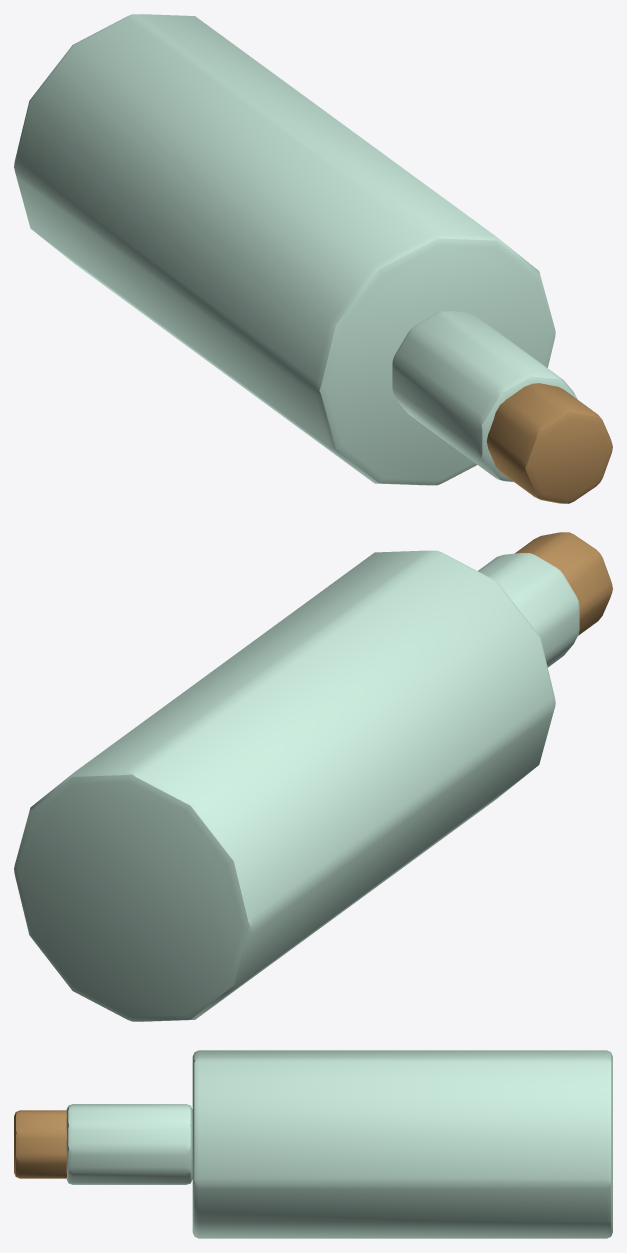
The model's file is RailHarbour.fbx.
3 views of the same model, one above another, from view 1: azimuth 30°, elevation 25°; view 2: azimuth 150°, elevation 25°; view 3: azimuth 270°, elevation 25° (orthographic). The views are drawn at different scales.
Parts seen in each view (by area): view 1: RailHarbour; view 2: RailHarbour; view 3: RailHarbour.
Part boxes in pixels (bbox=[...]): RailHarbour: bbox=[14, 14, 612, 503]; RailHarbour: bbox=[14, 532, 612, 1021]; RailHarbour: bbox=[14, 1050, 612, 1238].
Bounding box in the file's own units: 89.09 × 89.09 × 285.
